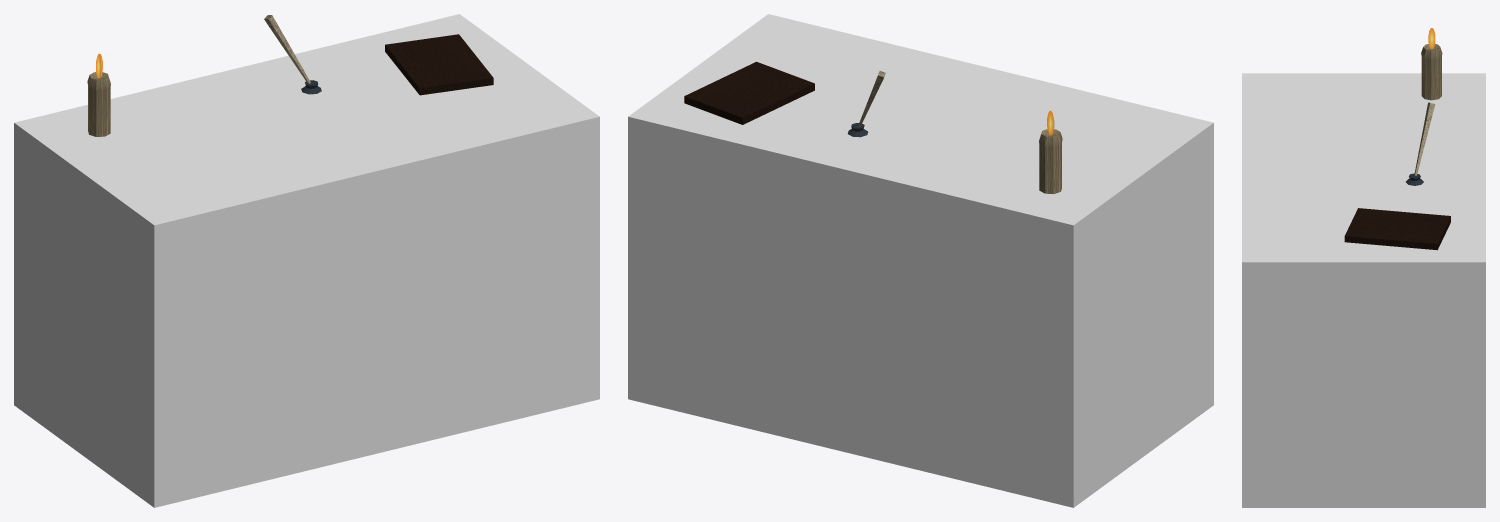
Rendered from desk.glb.
The picture shows the model from 3 angles, left to right: view 1: azimuth 30°, elevation 25°; view 2: azimuth 150°, elevation 25°; view 3: azimuth 270°, elevation 25°; orthographic projection. The views are drawn at different scales.
Visible parts, largest first — view 1: col_desk, desk_body; view 2: col_desk, desk_body; view 3: col_desk, desk_body.
Boxes of the visible parts, x1,y1,x2,y2 form: col_desk: (14,14,599,507); desk_body: (87,15,493,136); col_desk: (628,14,1213,507); desk_body: (684,61,1062,194); col_desk: (1242,73,1485,507); desk_body: (1344,28,1450,250).
Size of the model in its own units: 1.32 by 1.06 by 0.72.
Materials: 10 (9 with a texture image).
